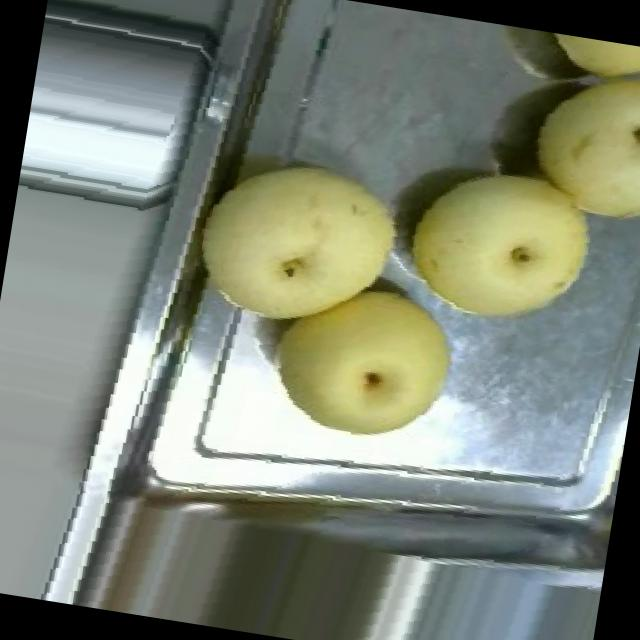Fruit: (174, 136, 420, 356), (386, 140, 617, 348), (19, 0, 230, 221), (252, 259, 473, 463), (508, 52, 640, 245), (515, 28, 640, 101)
